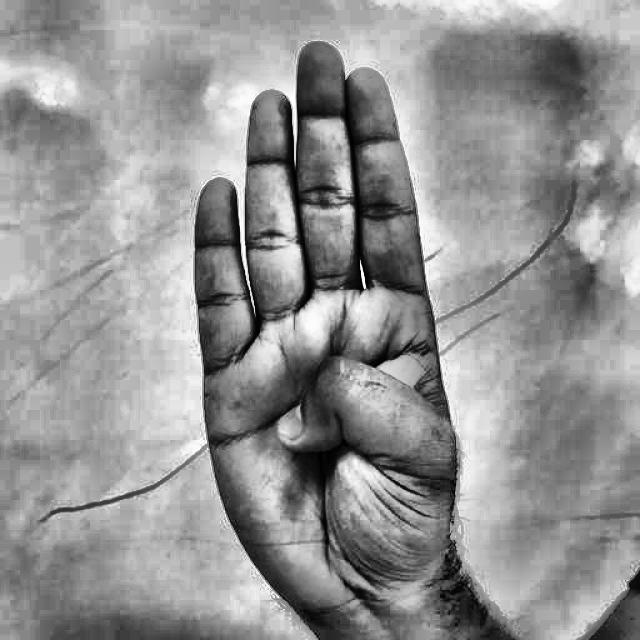Ba: (150, 22, 507, 639)
